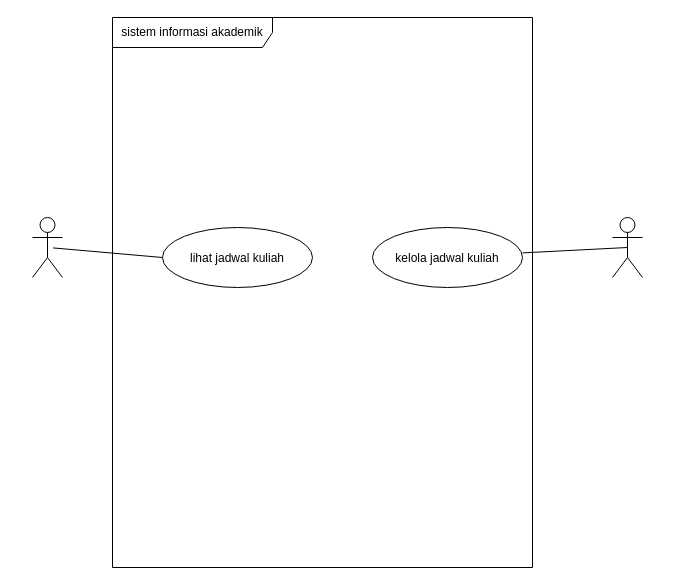
This 685x585 diagram has some shape labels left out. Here are the shapes that lost their labels. From the top down, the centre of each, then its label:
At (47,247): "mahasiswa".
At (627,247): "admin akdemik".
